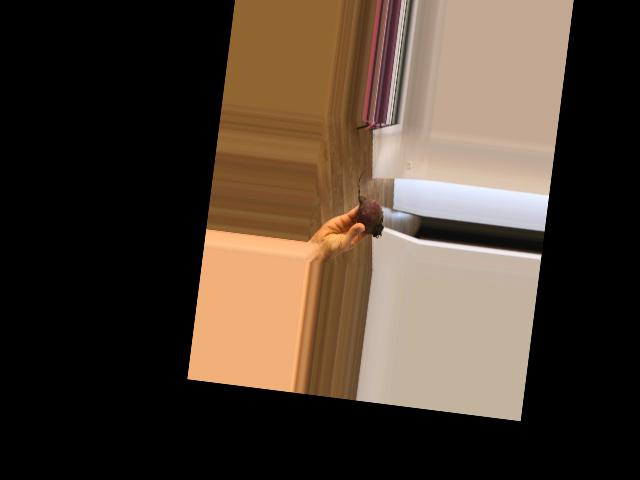beet: (351, 169, 390, 237)
